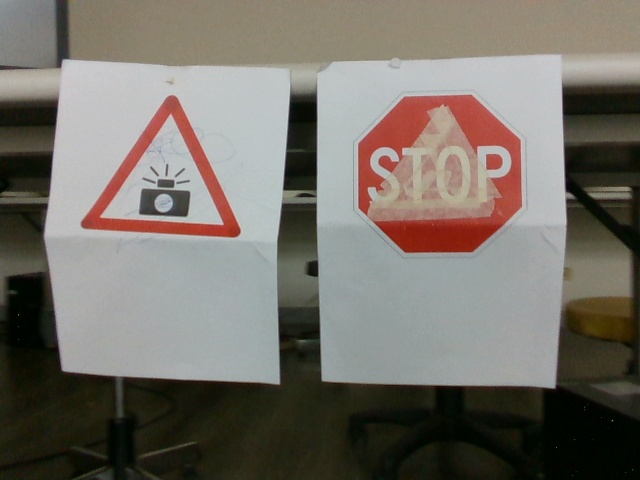camera: (83, 97, 240, 243)
stop: (352, 93, 528, 262)
